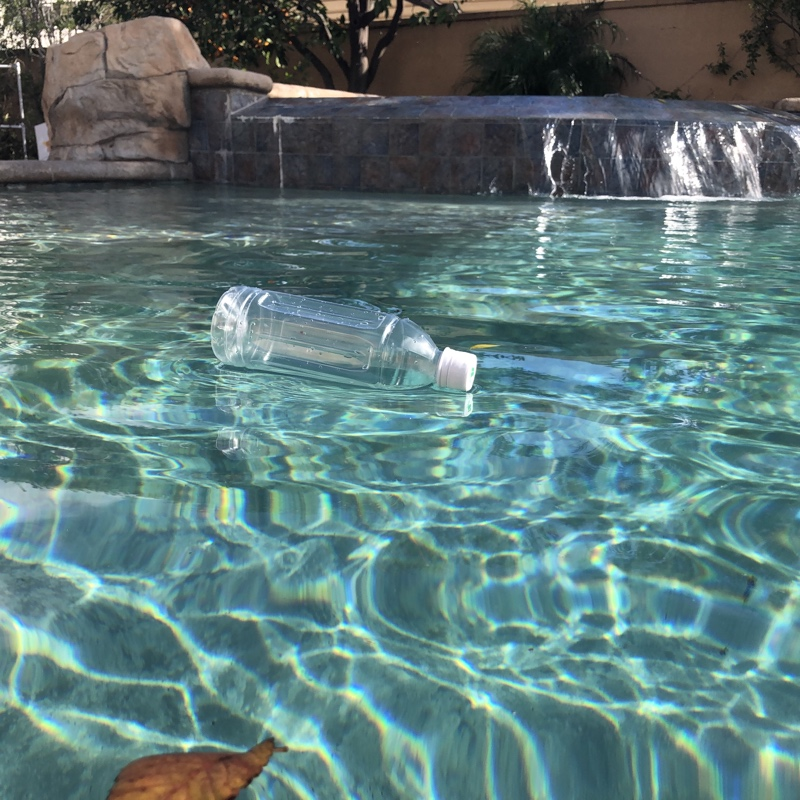Plastic Bottle: (205, 281, 483, 399)
